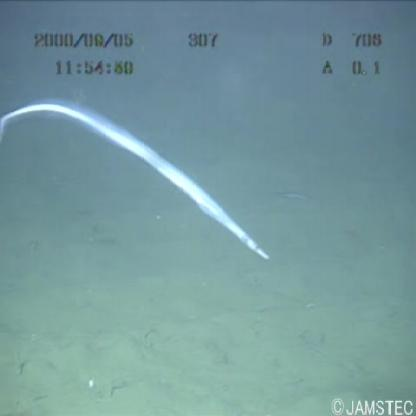Bio: (1, 96, 275, 265)
